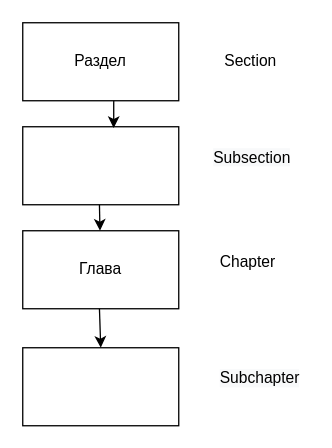
This 332x448 diagram has some shape labels left out. Here are the shapes that lost their labels. From the top down, the centre of each, then its label:
the point at 100,165: Подраздел
the point at 100,386: Топик
